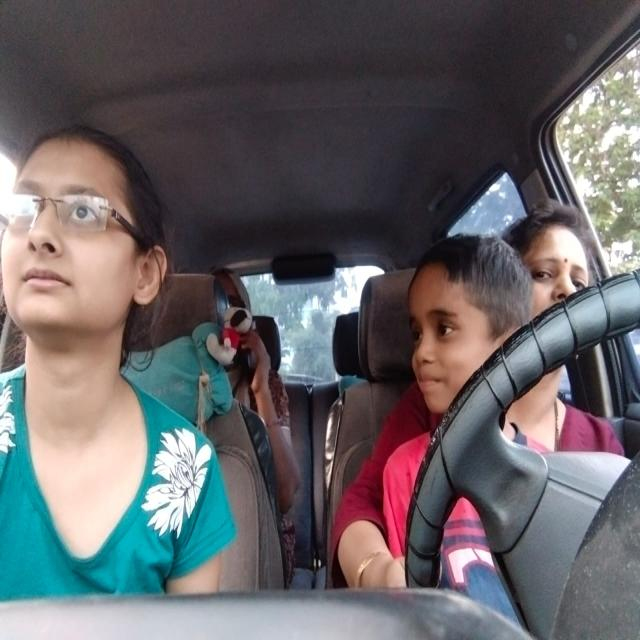child: (386, 228, 533, 426)
person: (0, 93, 172, 381), (218, 239, 278, 411), (535, 198, 614, 328)
